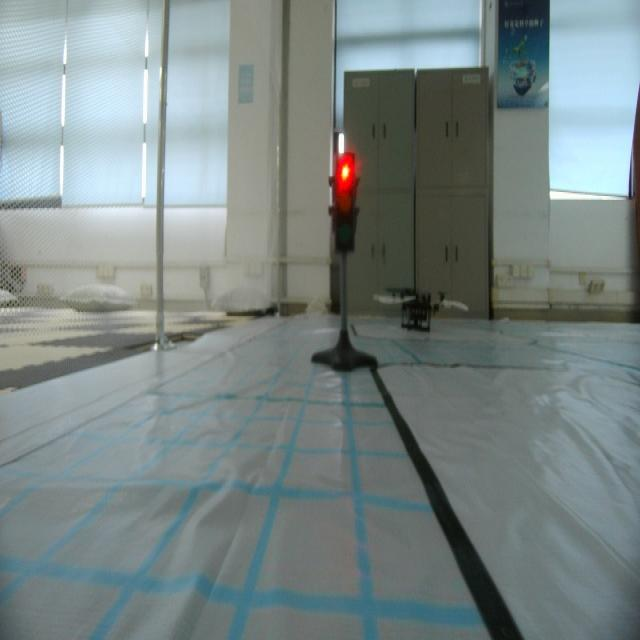red: (329, 149, 360, 257)
